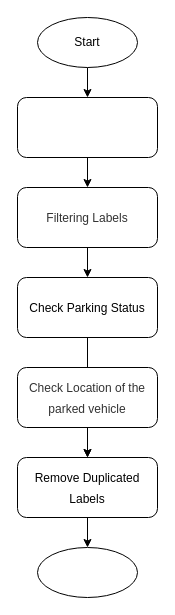
The diagram is 175 pixels wide and 615 high, and some of its shapes have lost their labels. Here are the shapes that lost their labels. From the top down, the centre of each, then its label:
At (87,127): "Validate pretrained model (YOLOv5x)".
At (87,572): "end".
